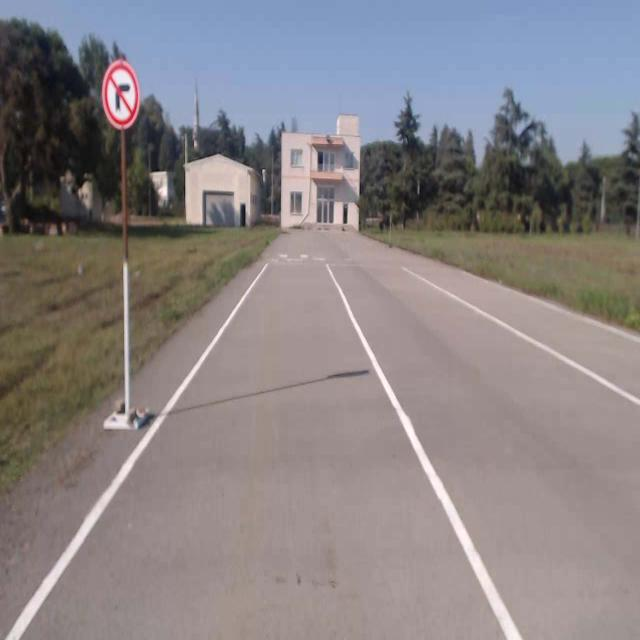sagadonulmez: (104, 61, 140, 127)
